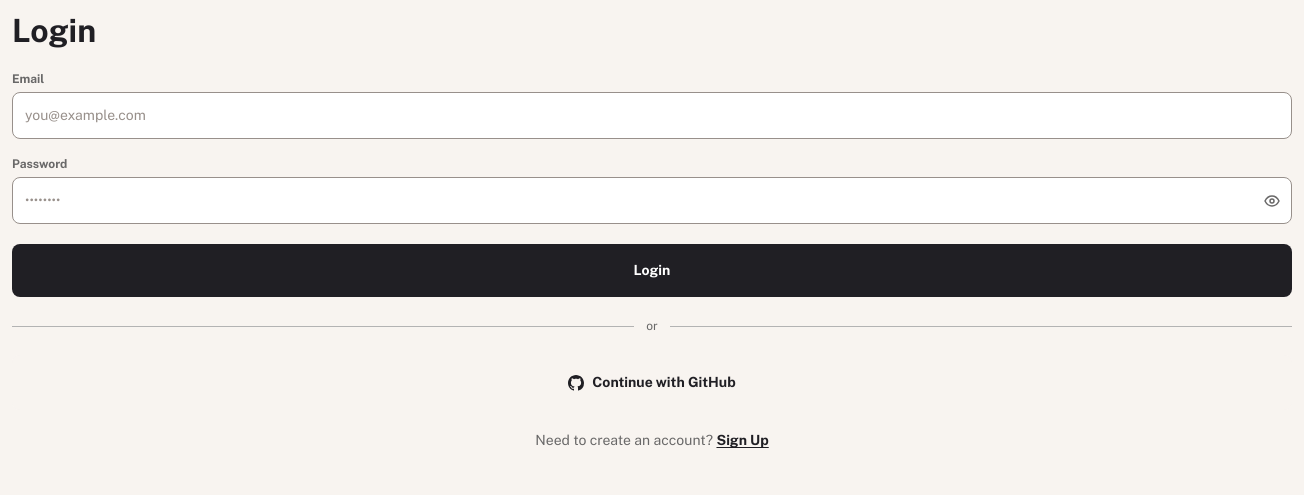
LoginForm › submission › shows server error when credentials are invalid
Step 1. Type "user@example.com" into the field labelled "Email" → (652, 116), box [12,92,1292,139]
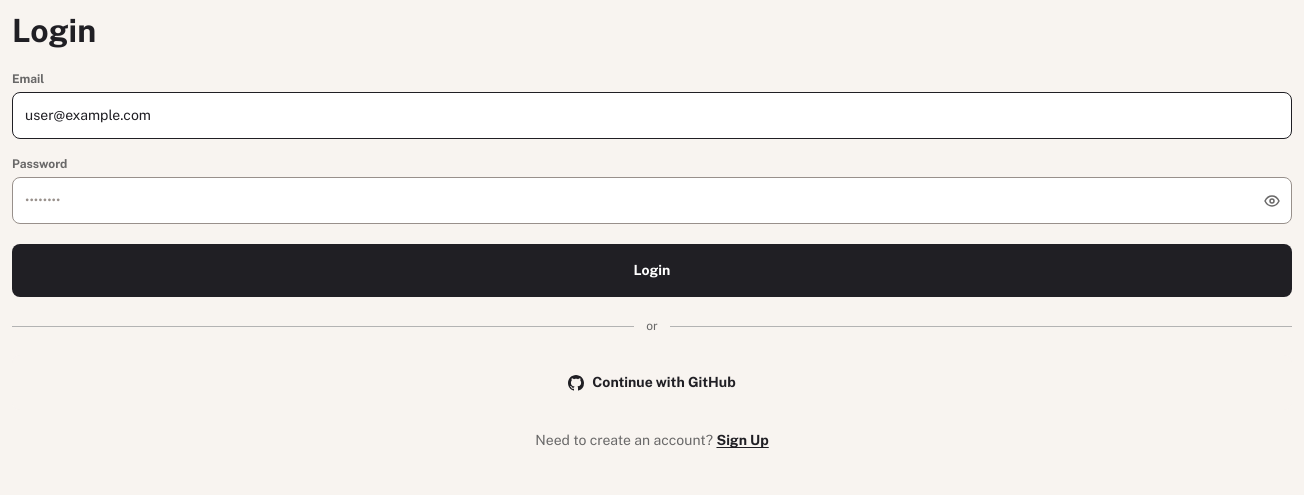
Step 2. Type "secret123" into the password field labelled "Password" → (652, 201), box [12,177,1292,224]
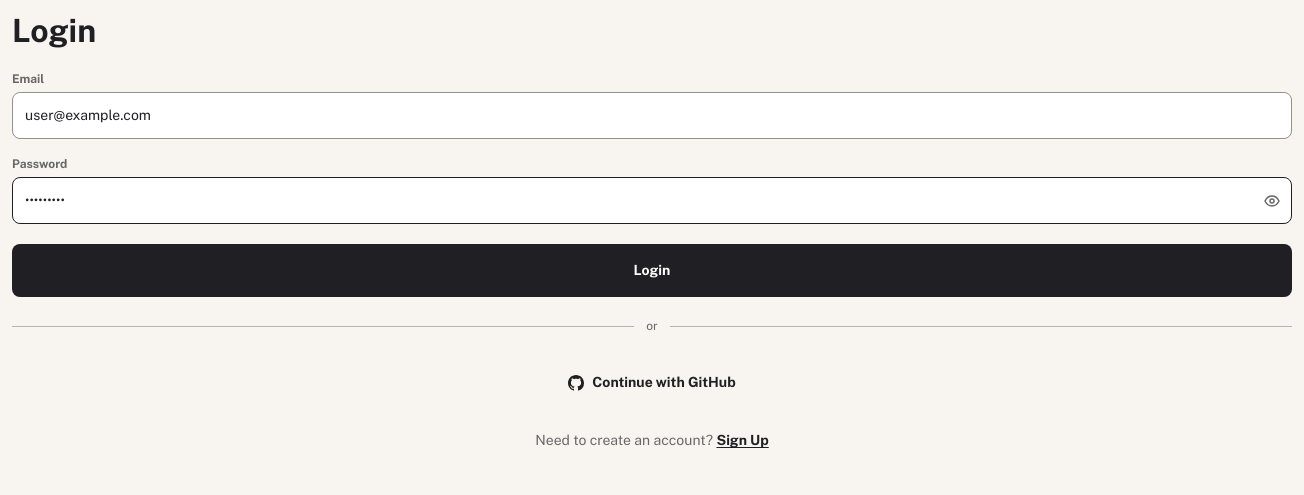
Step 3. Click the button "Login" → (652, 271), box [12,244,1292,297]
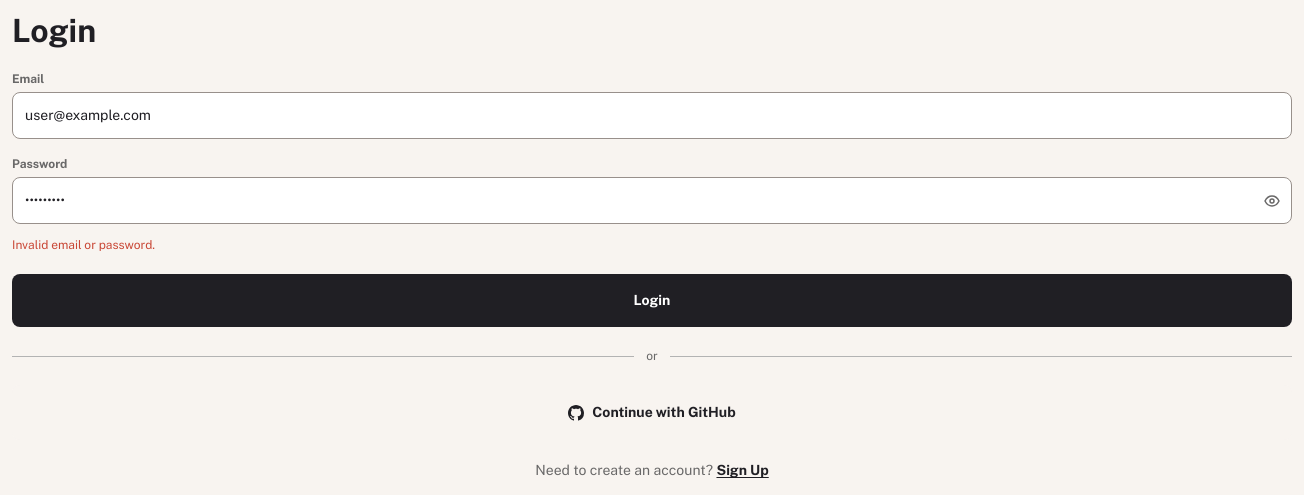
Expected: the message reads "Invalid email or password.", [12,238,155,252]
